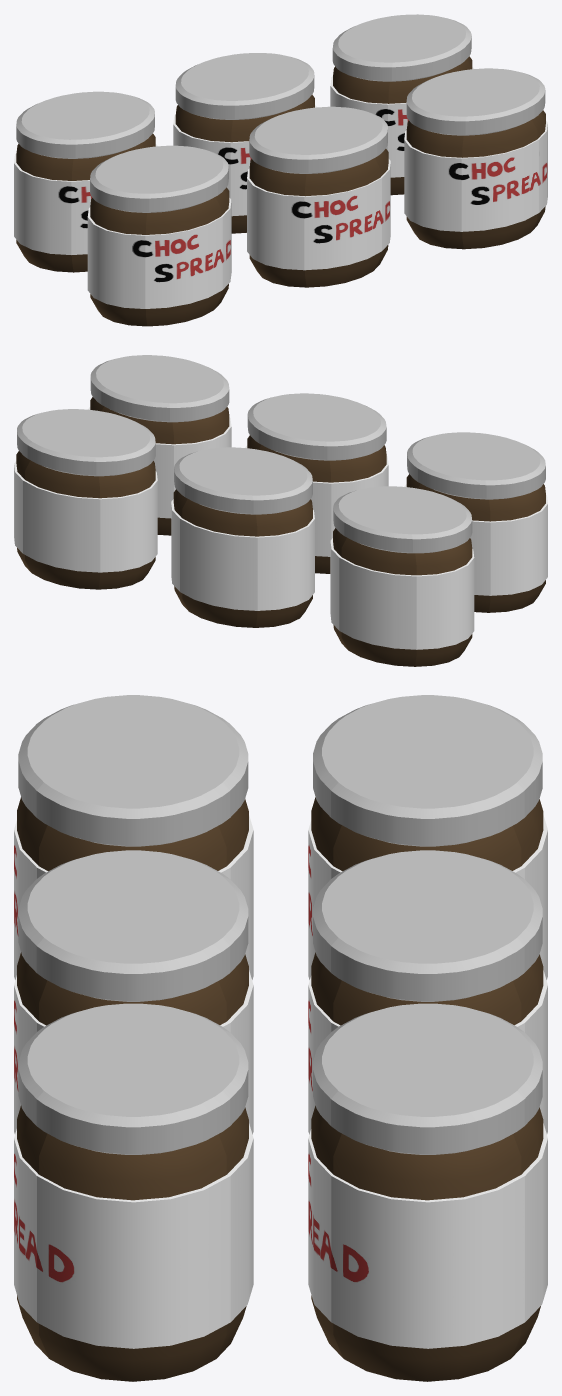
File: chocospread.fbx
The picture shows the model from 3 angles, top to bottom: view 1: azimuth 30°, elevation 25°; view 2: azimuth 150°, elevation 25°; view 3: azimuth 270°, elevation 25°; orthographic projection. The views are drawn at different scales.
Visible parts, largest first — view 1: label.016, label.020, label.024, lid.024, lid.025, lid.021, lid.016, lid.017, lid.020, label.017, ChocSpread9, ChocSpread5 (+6 smaller); view 2: label.017, label.025, label.021, lid.020, lid.017, lid.024, lid.016, lid.021, lid.025, label.016, ChocSpread6, ChocSpread2 (+6 smaller); view 3: label.025, label.024, lid.020, lid.016, lid.024, lid.025, lid.021, lid.017, ChocSpread10, ChocSpread9, ChocSpread2, ChocSpread (+6 smaller).
Boxes of the visible parts, <box> form: label.016: <box>87,198,231,308</box>; label.020: <box>247,159,390,270</box>; label.024: <box>404,121,547,231</box>; lid.024: <box>406,68,545,135</box>; lid.025: <box>332,14,471,81</box>; lid.021: <box>175,53,314,119</box>; lid.016: <box>90,145,228,212</box>; lid.017: <box>16,91,154,158</box>; lid.020: <box>249,106,387,173</box>; label.017: <box>14,144,157,254</box>; ChocSpread9: <box>406,110,545,249</box>; ChocSpread5: <box>249,149,388,287</box>; label.017: <box>330,538,474,649</box>; label.025: <box>14,461,157,572</box>; label.021: <box>171,499,314,610</box>; lid.020: <box>247,393,386,460</box>; lid.017: <box>333,486,472,553</box>; lid.024: <box>90,355,229,422</box>; lid.016: <box>407,432,545,499</box>; lid.021: <box>174,447,312,514</box>; lid.025: <box>17,409,155,476</box>; label.016: <box>404,484,547,595</box>; ChocSpread6: <box>173,489,312,627</box>; ChocSpread2: <box>333,528,472,666</box>; label.025: <box>308,1123,547,1348</box>; label.024: <box>14,1123,253,1348</box>; lid.020: <box>18,850,248,1001</box>; lid.016: <box>18,695,248,846</box>; lid.024: <box>18,1003,248,1154</box>; lid.025: <box>313,1003,542,1154</box>; lid.021: <box>313,850,542,1001</box>; lid.017: <box>313,695,542,846</box>; ChocSpread10: <box>311,1105,543,1381</box>; ChocSpread9: <box>17,1105,248,1381</box>; ChocSpread2: <box>311,797,543,871</box>; ChocSpread: <box>17,797,248,871</box>.
Size of the model in its own units: 47.85 by 13.6 by 24.73.
